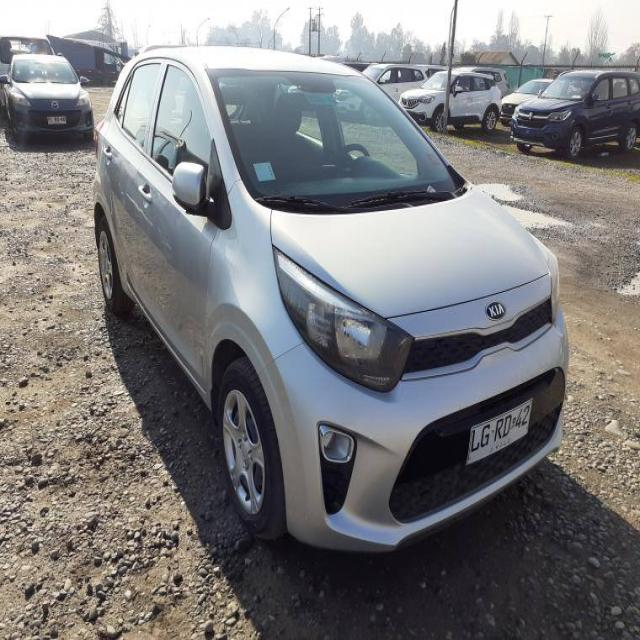patente: (464, 395, 533, 466)
